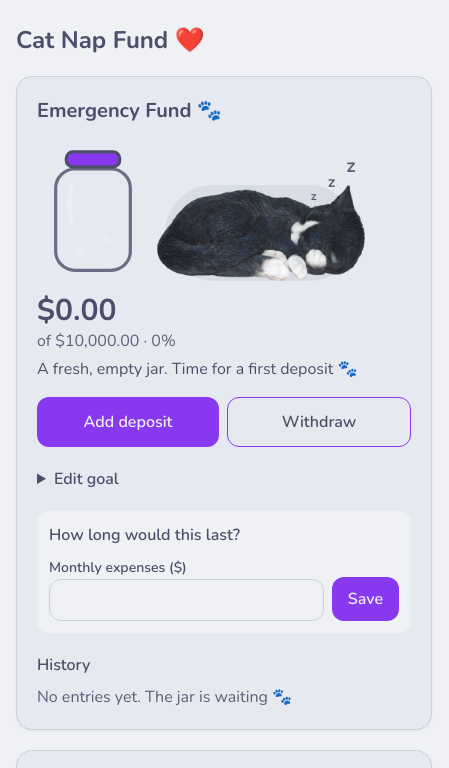
Test: dashboard › a deposit updates balance, progress, message, and history
Click the button "Add deposit": point(128, 422) [37, 397, 219, 447]
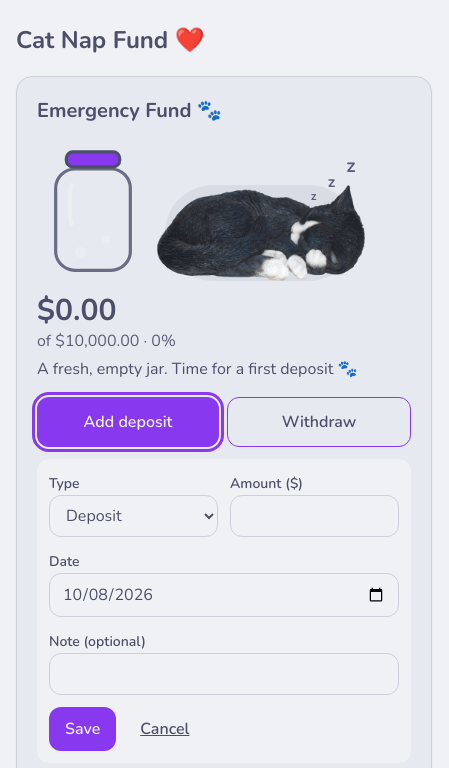
In the field labelled "Amount ($)": point(314, 516) [230, 495, 399, 537], type "620"
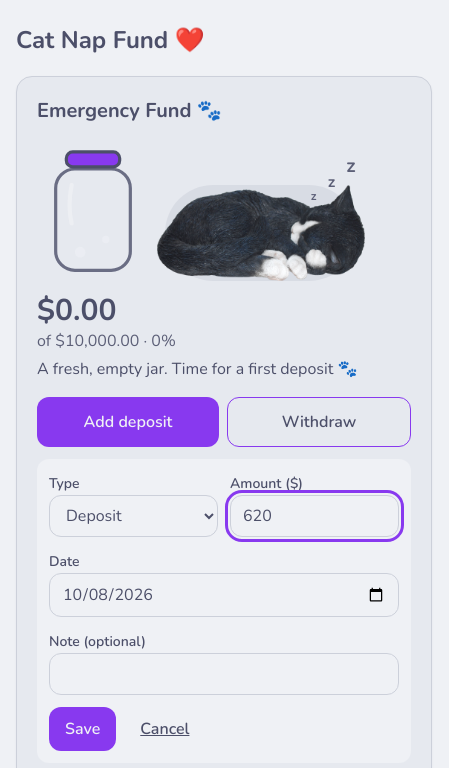
In the field labelled "Note (optional)": point(224, 674) [49, 653, 399, 695], type "tax refund"
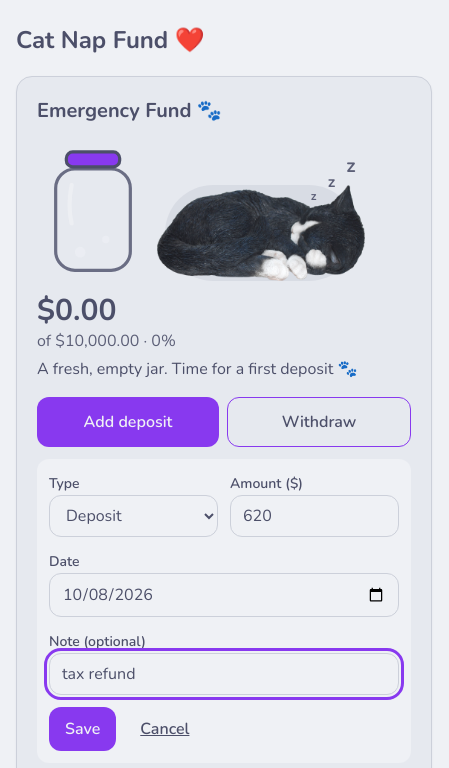
Click the button "Save": point(83, 729) [49, 707, 116, 751]
(page scrolled)
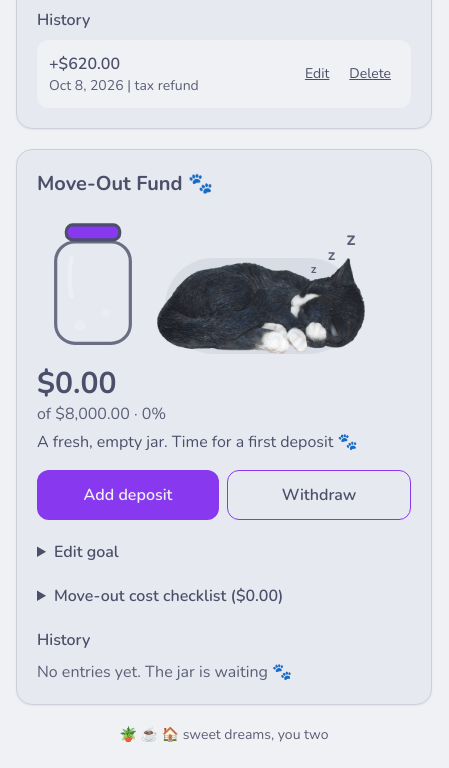
Check: the text with test id "moveout-balance" reads "$0.00", box [37, 363, 116, 404]
Check: the text "Oct 8, 2026 | tax refund" is shown, box [49, 76, 199, 96]
